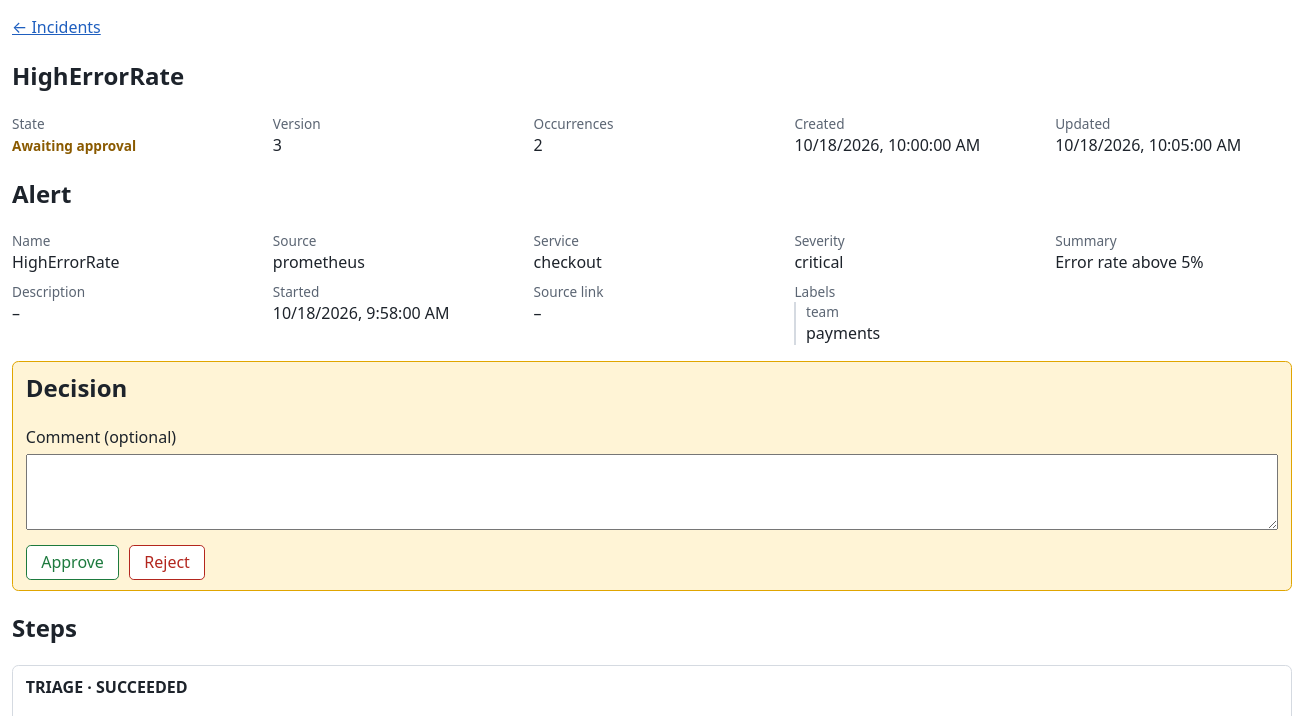
Scenario: IncidentDetailPage › approves with the shown version as If-Match and the CSRF header
Type "Rollback is safe" into the text box labelled "Comment (optional)" at (652, 492), box x1=26 y1=454 x2=1278 y2=530
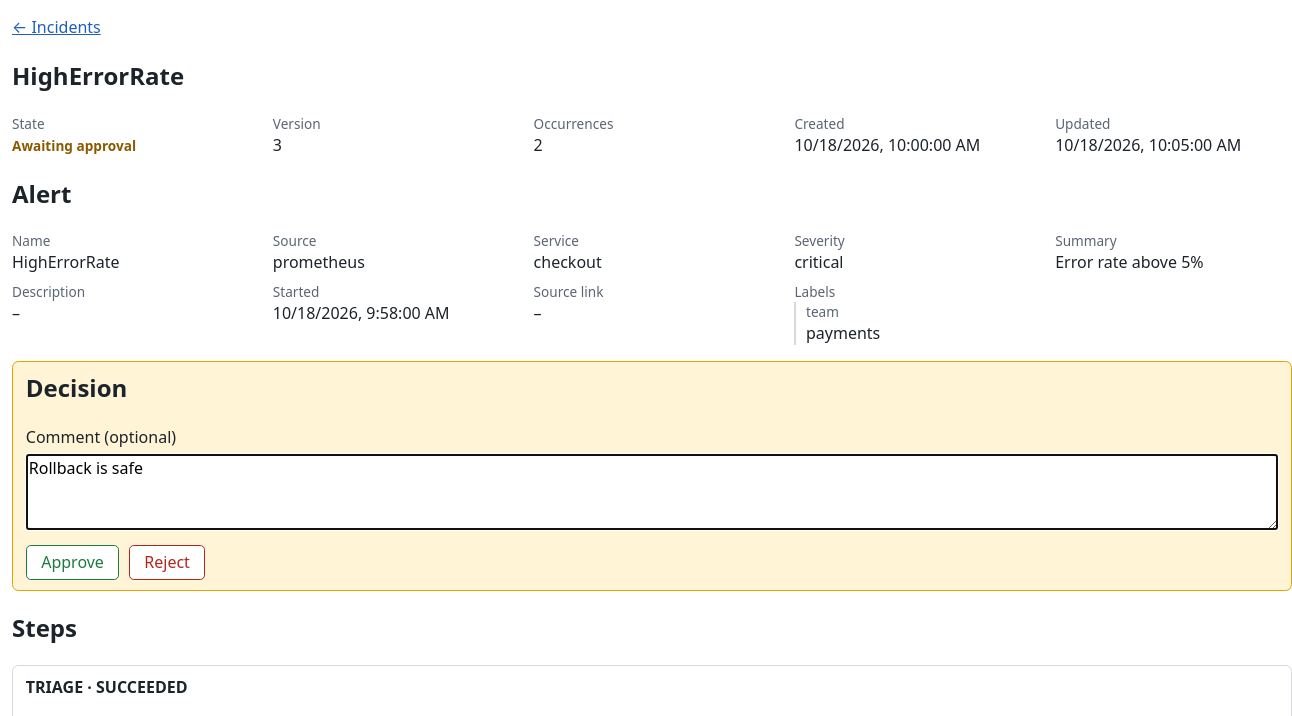
Click the button "Approve" at (73, 563), box x1=26 y1=545 x2=119 y2=580
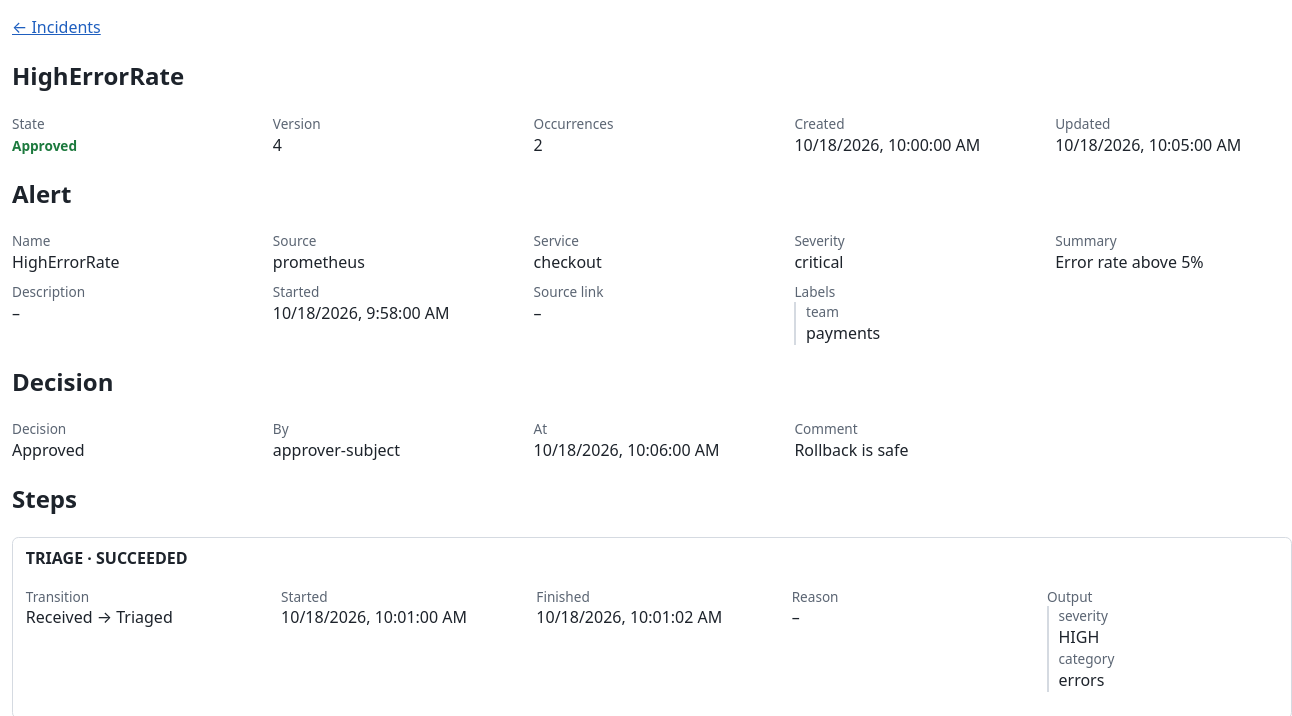
Check: the element with test id "incident-state" reads "Approved", box x1=12 y1=136 x2=77 y2=154
Check: the text "Rollback is safe" is shown, box x1=794 y1=439 x2=909 y2=461
